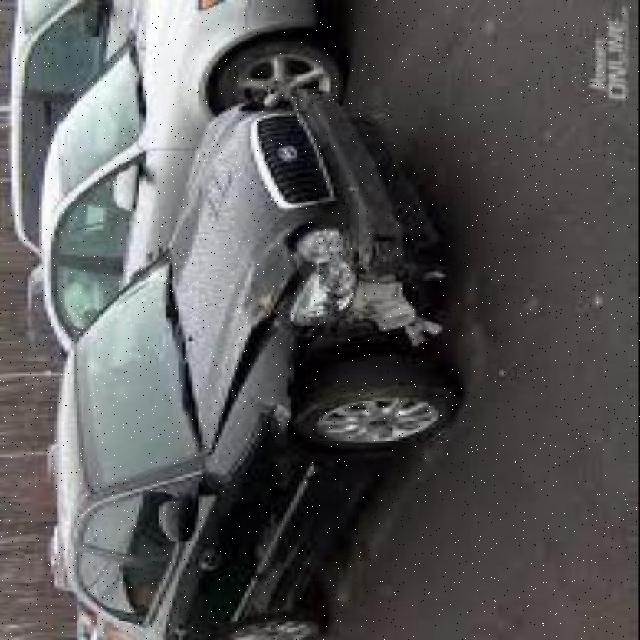damage: (207, 212, 457, 449)
